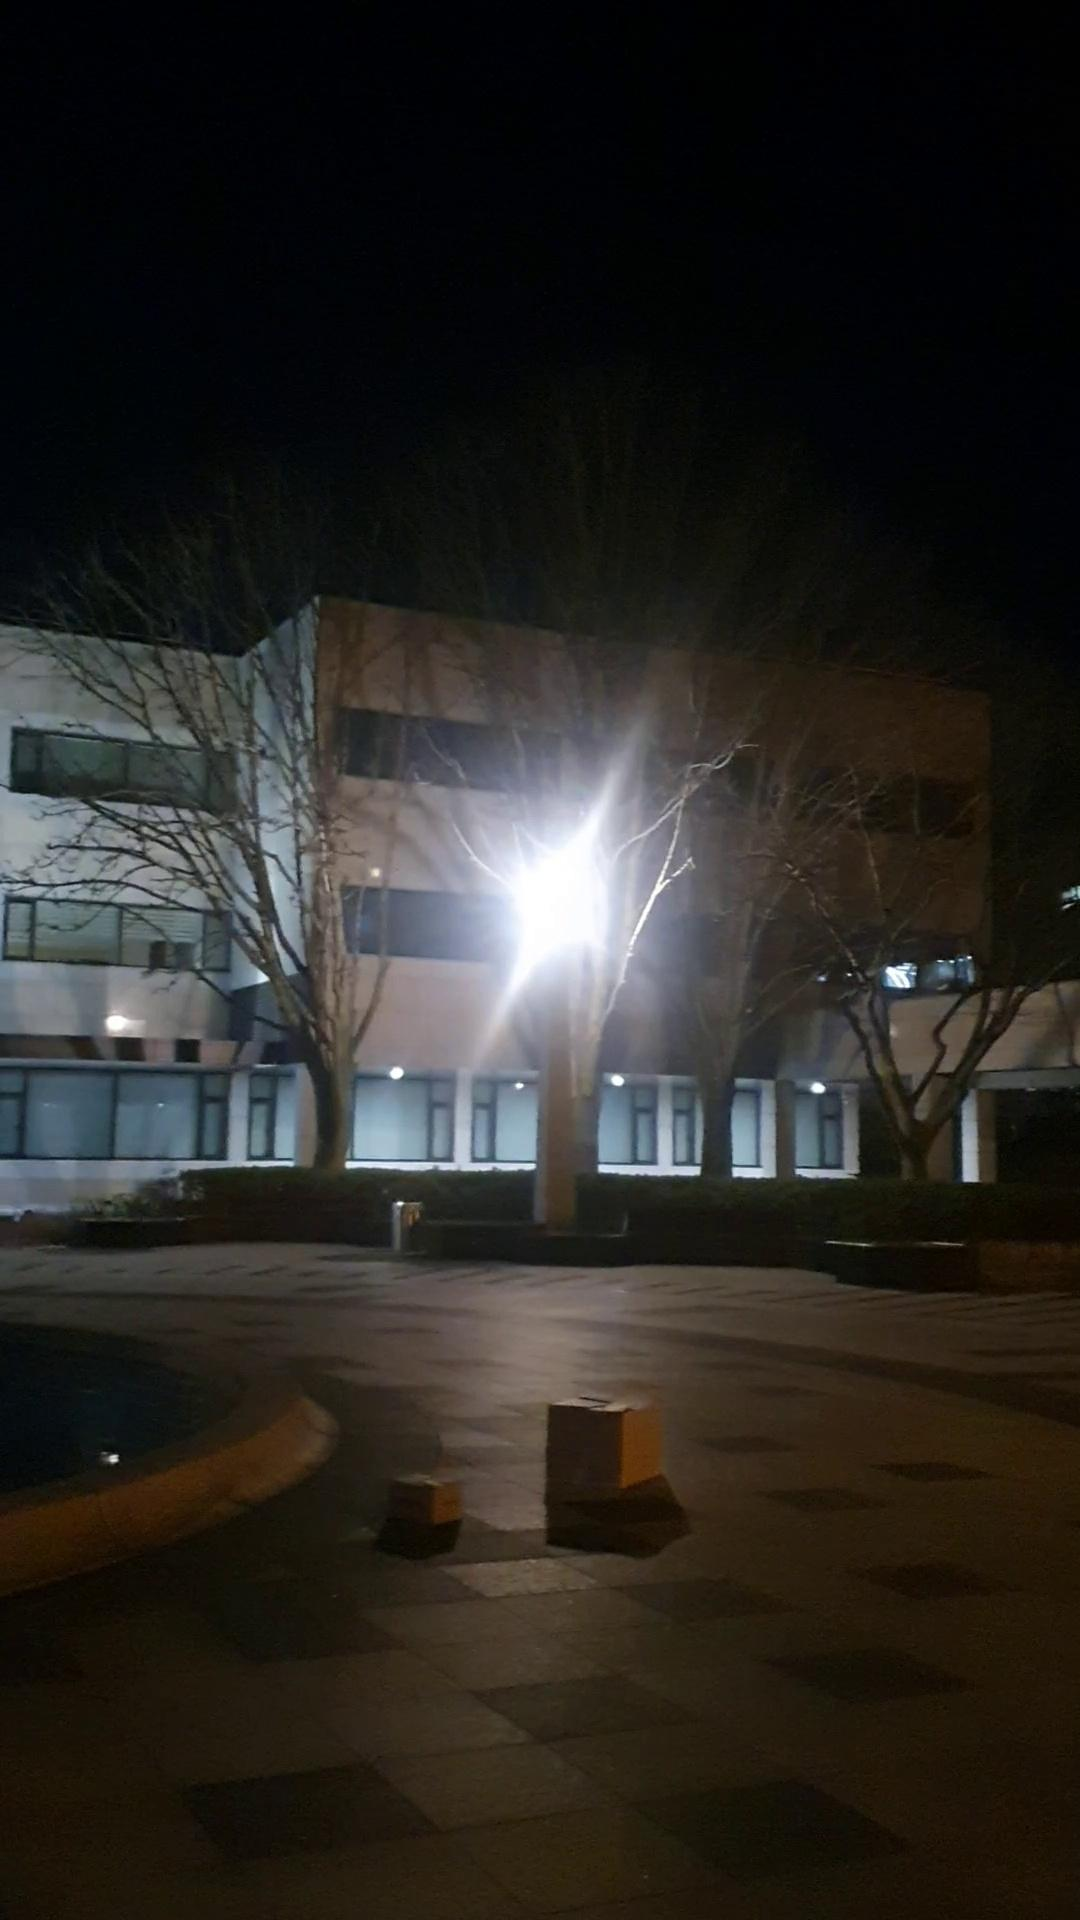Box: (541, 1385, 676, 1524), (381, 1455, 473, 1547)
